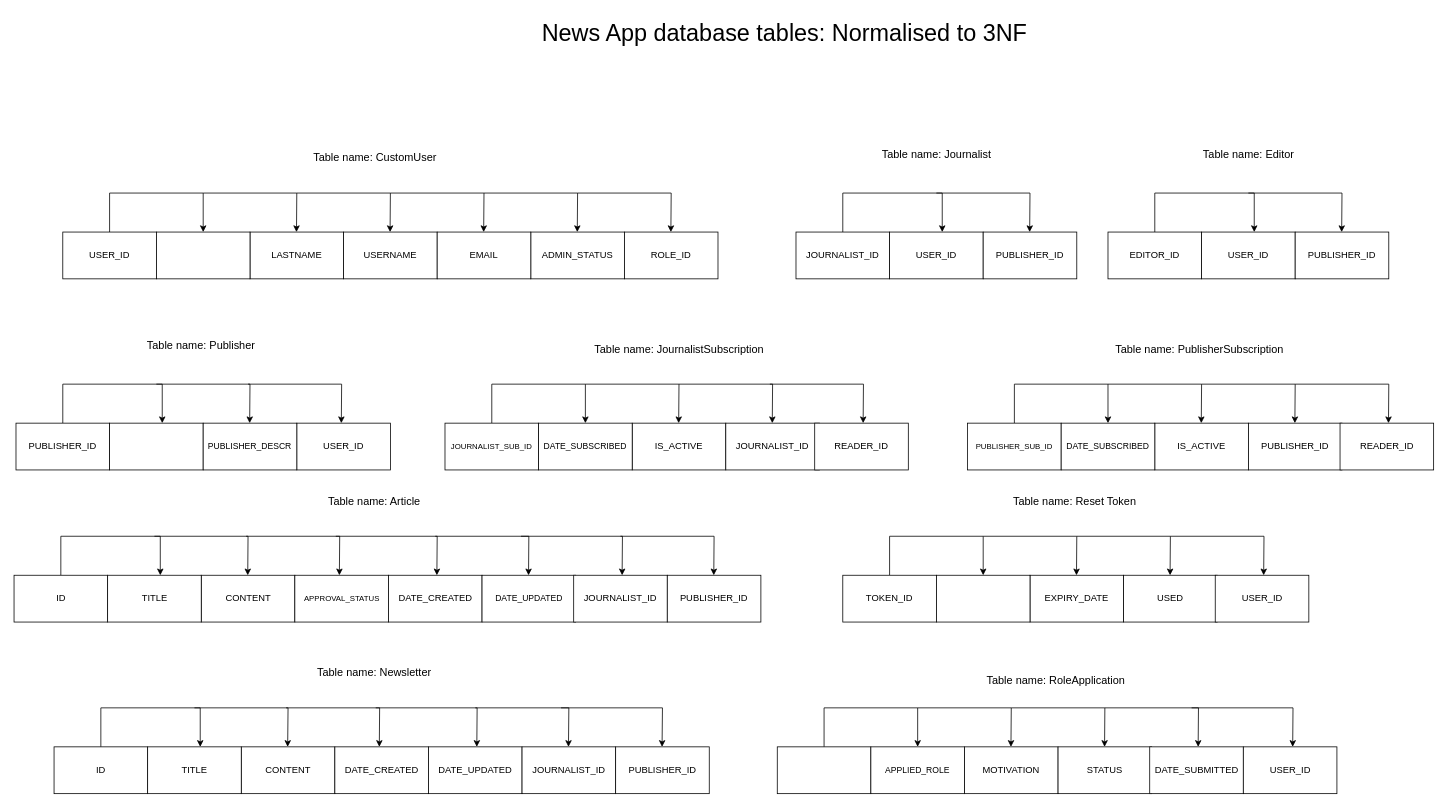
This 1447x807 diagram has some shape labels left out. Here are the shapes that lost their labels. From the top down, the centre of each, then its label:
At point 203,255: "FIRSTNAME".
At point 156,446: "PUBLISHER_NAME".
At point 983,598: "TOKEN".
At point 823,770: "APPLIED_ROLE_ID".
